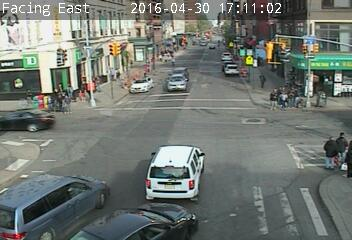neg: (157, 54, 179, 83), (190, 51, 212, 80), (328, 14, 344, 34), (258, 28, 273, 49), (134, 55, 149, 74), (222, 49, 236, 68), (298, 17, 312, 35), (109, 68, 122, 85)
pos: (310, 130, 339, 168), (263, 85, 281, 109), (74, 77, 91, 100), (276, 88, 292, 109), (19, 85, 35, 106), (256, 71, 270, 89), (61, 95, 75, 113), (52, 92, 66, 110)
